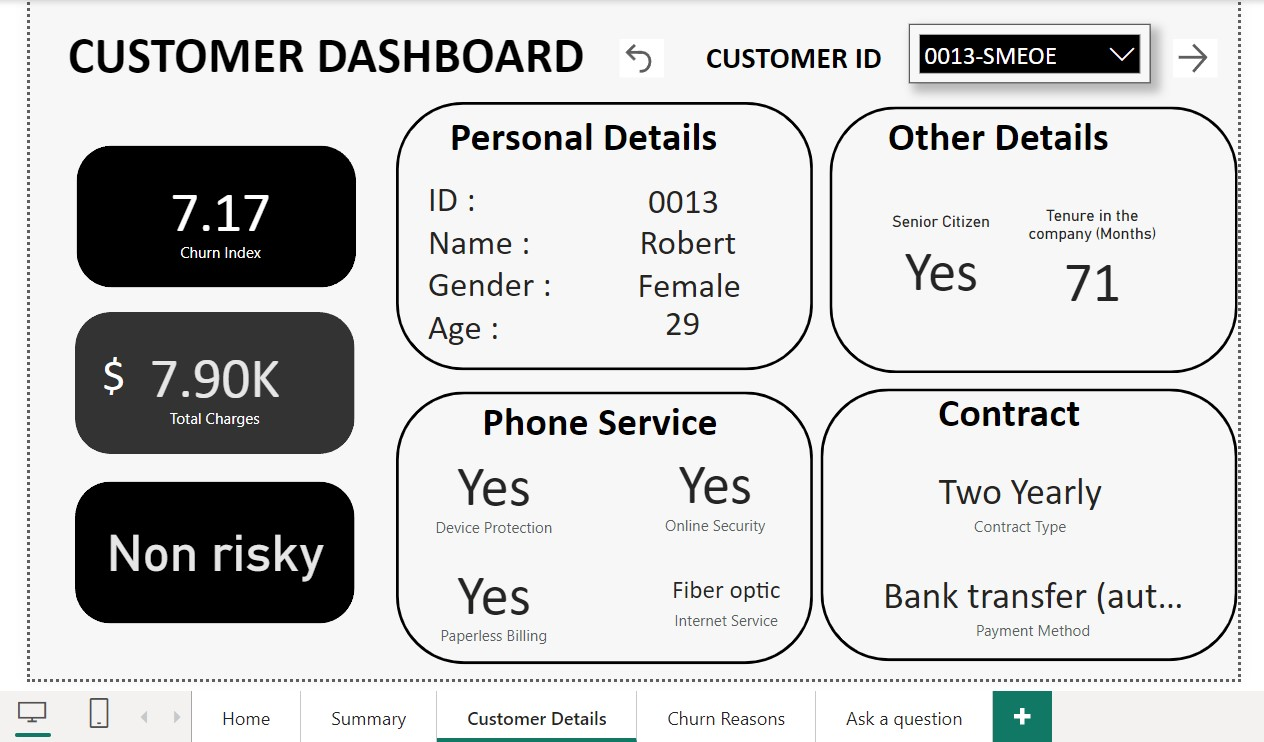

This screenshot's page, from the dashboard's own definition file:
{"tool":"powerbi","page":{"name":"Customer Details","canvas":[1280,720],"ordinal":2},"visuals":[{"type":"card","fields":{"Values":["Min(Telco-Churn-Analysis-Predictions.ID)"]},"box":[647.8,183.5,91,56.5],"z":0},{"type":"card","fields":{"Values":["Min(Telco-Churn-Analysis-Predictions.gender)"]},"box":[608.6,271.4,178.8,56.5],"z":1000},{"type":"card","title":"Tenure in the company (Months)","fields":{"Values":["Sum(Telco-Churn-Analysis-Predictions.tenure)"]},"box":[1062,247.8,177.3,111.4],"z":2000},{"type":"card","fields":{"Values":["Min(Telco-Churn-Analysis-Predictions.Contract Type)"]},"box":[950.6,472.2,164.7,112.9],"z":3000},{"type":"card","title":"Senior Citizen","fields":{"Values":["Min(Telco-Churn-Analysis-Predictions.SeniorCitizen)"]},"box":[847.1,257.3,122.4,95.7],"z":4000},{"type":"card","fields":{"Values":["Min(Telco-Churn-Analysis-Predictions.DeviceProtection)"]},"box":[371.8,451.8,169.4,133.3],"z":5000},{"type":"card","fields":{"Values":["Min(Telco-Churn-Analysis-Predictions.InternetService)"]},"box":[594.5,572.5,199.2,133.3],"z":6000},{"type":"card","fields":{"Values":["Min(Telco-Churn-Analysis-Predictions.PaperlessBilling)"]},"box":[371.8,560,169.4,133.3],"z":7000},{"type":"card","fields":{"Values":["Min(Telco-Churn-Analysis-Predictions.OnlineSecurity)"]},"box":[613.3,451.8,169.4,133.3],"z":8000},{"type":"slicer","fields":{"Values":["Telco-Churn-Analysis-Predictions.customerID"]},"box":[931.8,25.1,255.7,62.7],"z":9000},{"type":"textbox","box":[687.1,36.1,221.2,86.3],"z":10000},{"type":"textbox","box":[417.3,183.5,188.2,357.6],"z":11000},{"type":"textbox","box":[641.6,229,166.3,62.7],"z":12000},{"type":"textbox","box":[668.2,315.3,114.5,64.3],"z":13000},{"type":"textbox","box":[365.5,112.9,442.4,70.6],"z":14000},{"type":"textbox","box":[365.5,406.3,442.4,75.3],"z":15000},{"type":"textbox","box":[829.8,406.3,415.7,75.3],"z":16000},{"type":"card","fields":{"Values":["Min(Telco-Churn-Analysis-Predictions.PaymentMethod)"]},"box":[889.4,586.7,299.6,106.7],"z":17000},{"type":"shape","box":[48.6,153.7,296.5,150.6],"z":18000},{"type":"card","fields":{"Values":["Sum(Telco-Churn-Analysis-Predictions.Prediction)"]},"box":[116.1,164.7,171,127.1],"z":19000},{"type":"shape","box":[47.1,331,296.5,150.6],"z":20000},{"type":"shape","box":[47.1,511.4,296.5,150.6],"z":21000},{"type":"card","fields":{"Values":["Sum(Telco-Churn-Analysis-Predictions.TotalCharges)"]},"box":[72.2,346.7,247.8,116.1],"z":22000},{"type":"card","fields":{"Values":["Min(Telco-Churn-Analysis-Predictions.Risk)"]},"box":[48.6,552.2,294.9,75.3],"z":23000},{"type":"textbox","box":[34.5,20.4,748.2,130.2],"z":24000},{"type":"textbox","box":[807.8,112.9,437.6,70.6],"z":25000},{"type":"textbox","box":[72.2,362.4,56.5,100.4],"z":26000},{"type":"actionButton","box":[625.9,41.3,47.1,40.8],"z":27000},{"type":"actionButton","box":[1212.5,40.8,47.1,40.8],"z":28000}]}

Visuals, with their boxes on the page's 1280x720 design canvas (x1, y1, x2, y2). These are canvas units, not pixel positions in the 1264x742 screenshot, which may show the page scaled, cropped or inside an application window:
card - Min(Telco-Churn-Analysis-Predictions.ID): (648,184,739,240)
card - Min(Telco-Churn-Analysis-Predictions.gender): (609,271,787,328)
"Tenure in the company (Months)" card: (1062,248,1239,359)
card - Min(Telco-Churn-Analysis-Predictions.Contract Type): (951,472,1115,585)
"Senior Citizen" card: (847,257,970,353)
card - Min(Telco-Churn-Analysis-Predictions.DeviceProtection): (372,452,541,585)
card - Min(Telco-Churn-Analysis-Predictions.InternetService): (594,572,794,706)
card - Min(Telco-Churn-Analysis-Predictions.PaperlessBilling): (372,560,541,693)
card - Min(Telco-Churn-Analysis-Predictions.OnlineSecurity): (613,452,783,585)
slicer - Telco-Churn-Analysis-Predictions.customerID: (932,25,1188,88)
textbox: (687,36,908,122)
textbox: (417,184,606,541)
textbox: (642,229,808,292)
textbox: (668,315,783,380)
textbox: (366,113,808,184)
textbox: (366,406,808,482)
textbox: (830,406,1246,482)
card - Min(Telco-Churn-Analysis-Predictions.PaymentMethod): (889,587,1189,693)
shape: (49,154,345,304)
card - Sum(Telco-Churn-Analysis-Predictions.Prediction): (116,165,287,292)
shape: (47,331,344,482)
shape: (47,511,344,662)
card - Sum(Telco-Churn-Analysis-Predictions.TotalCharges): (72,347,320,463)
card - Min(Telco-Churn-Analysis-Predictions.Risk): (49,552,344,628)
textbox: (34,20,783,151)
textbox: (808,113,1245,184)
textbox: (72,362,129,463)
actionButton: (626,41,673,82)
actionButton: (1212,41,1260,82)
